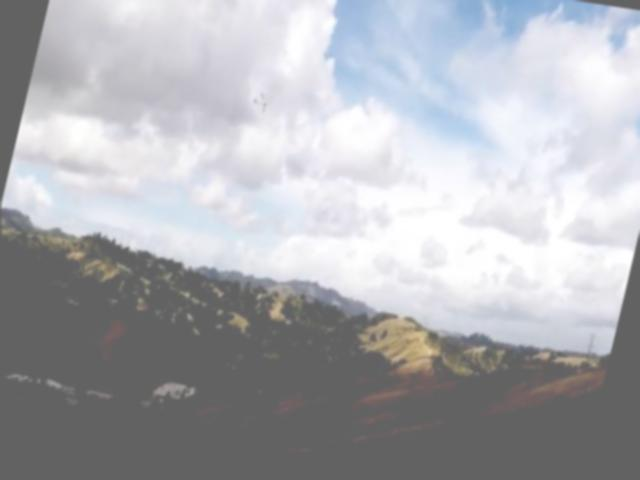iha: (246, 93, 277, 129)
